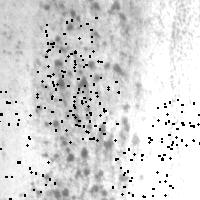pitted_surface: (35, 3, 138, 198), (168, 1, 198, 185), (37, 50, 96, 107), (45, 17, 100, 77), (65, 81, 118, 141), (112, 148, 172, 200), (148, 99, 200, 157), (49, 84, 103, 138), (0, 90, 37, 148), (5, 161, 56, 200)
